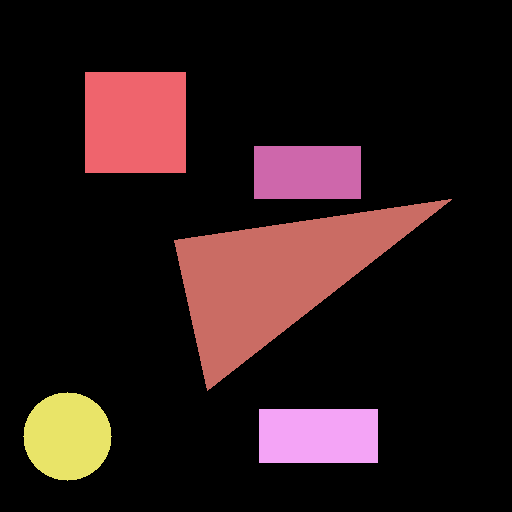circle: (23, 392, 111, 480)
rectangle: (259, 409, 377, 462), (254, 146, 360, 198)
square: (85, 72, 185, 172)
triangle: (174, 199, 451, 390)
